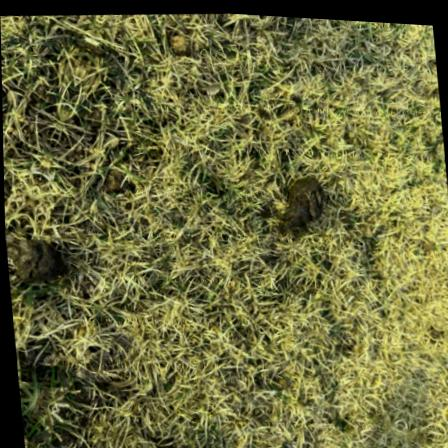dog-poop: (271, 159, 325, 238), (9, 235, 64, 288)
